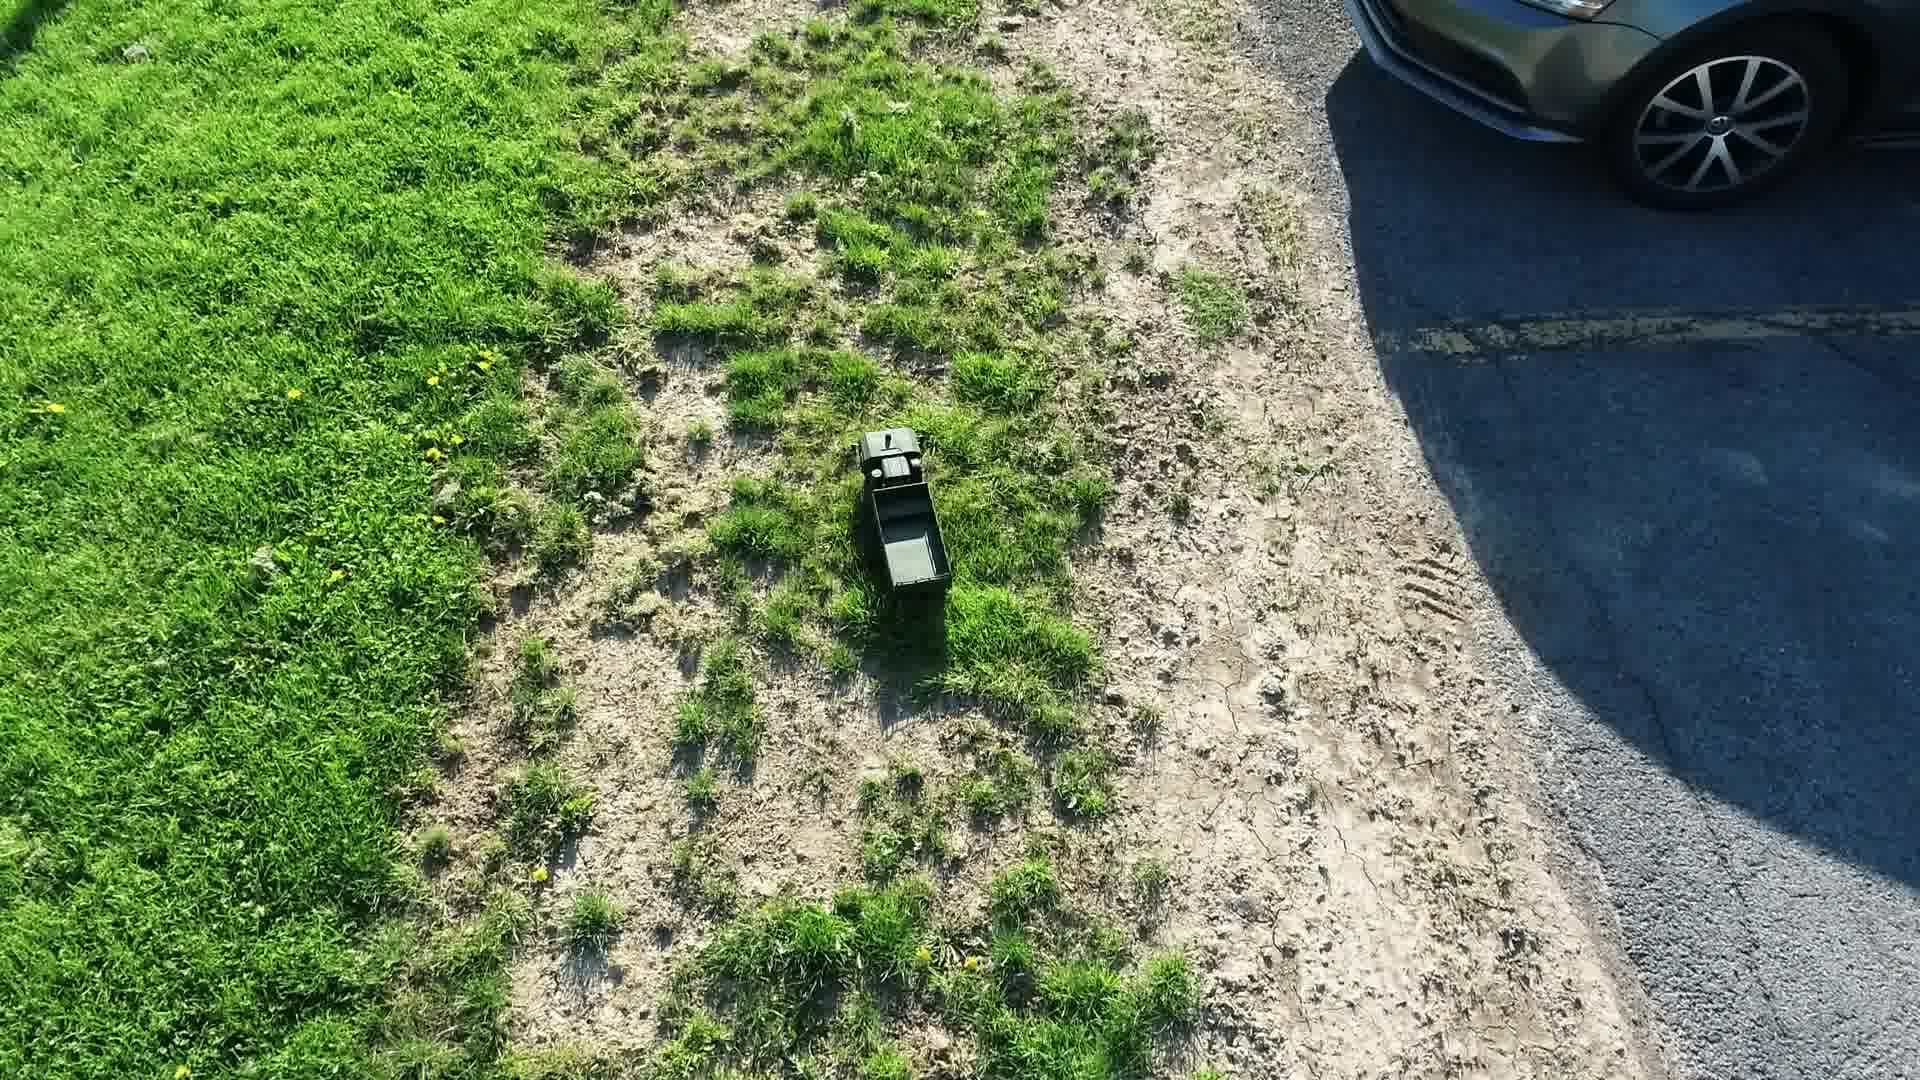transporter9: (849, 419, 957, 626)
